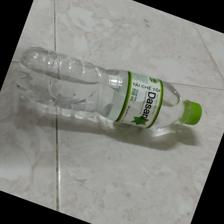Dasani: (14, 47, 204, 131)
